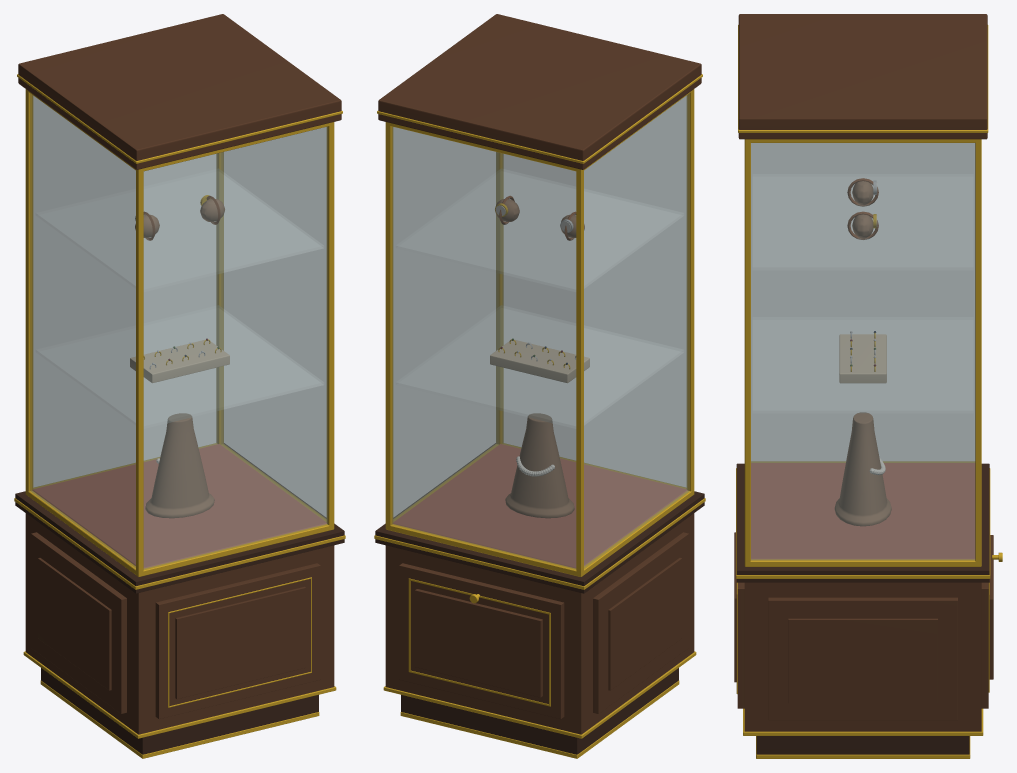
Rendered from prop_display_case_vitrine.glb.
3 views of the same model, side by side, from view 1: azimuth 30°, elevation 25°; view 2: azimuth 150°, elevation 25°; view 3: azimuth 270°, elevation 25° (orthographic). The views are drawn at different scales.
Parts seen in each view (by area): view 1: Body, Glass, Display; view 2: Body, Glass, Display; view 3: Body, Glass, Display.
Part boxes in pixels (x1,y1,x2,y2): Body: (14, 14, 345, 758); Glass: (30, 93, 327, 569); Display: (130, 195, 229, 518); Body: (374, 14, 705, 758); Glass: (392, 93, 689, 569); Display: (490, 196, 589, 518); Body: (734, 14, 1002, 758); Glass: (751, 143, 975, 560); Display: (834, 178, 891, 526).
Size of the model in its own units: 0.652 by 1.81 by 0.679.
